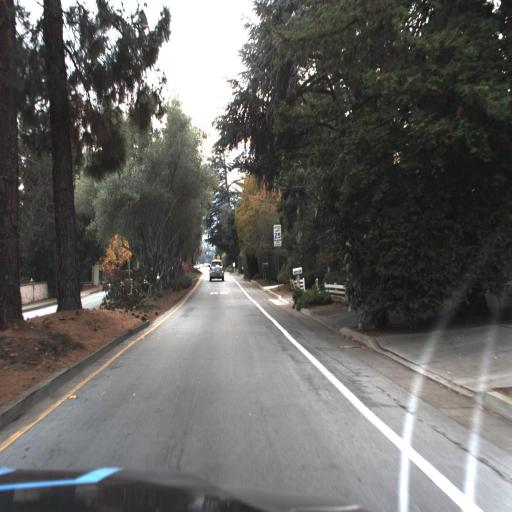car: (206, 256, 229, 285)
